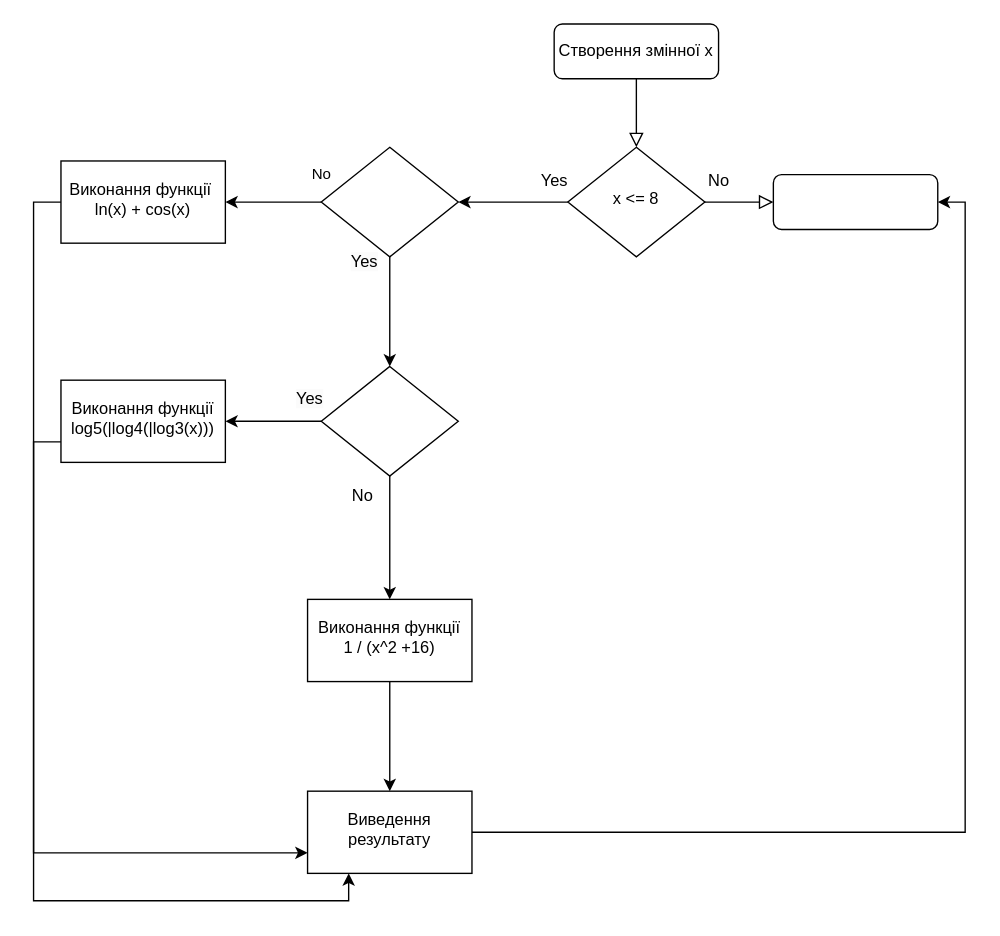
Some shapes in this 1000 by 936 pixel diagram are drawn without their labels. Each missing label, with the box of its shape:
x < 5: (320, 365, 458, 476)
x < 7: (320, 146, 458, 257)
Цикл завершено: (772, 173, 938, 229)
